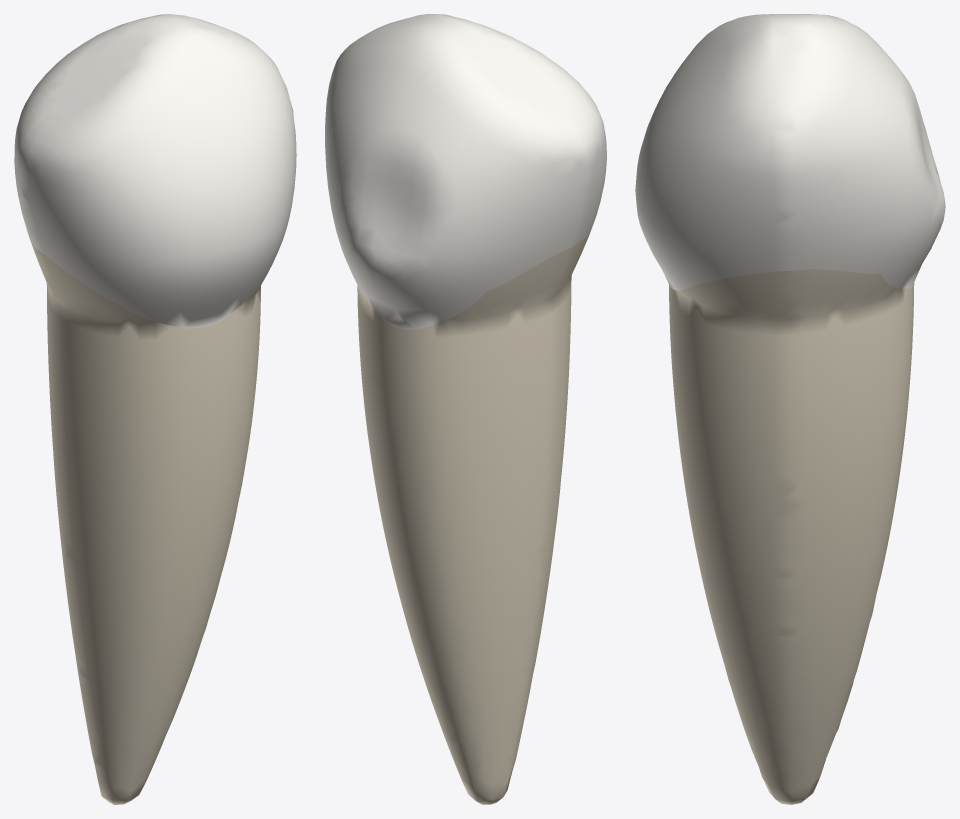
3 renders of one model, left to right at view 1: azimuth 30°, elevation 25°; view 2: azimuth 150°, elevation 25°; view 3: azimuth 270°, elevation 25°, orthographic. The views are drawn at different scales.
Visible parts, largest first — view 1: root, V, I, D, M; view 2: root, L, I, D, M; view 3: root, M, I, L, V.
Part boxes in pixels (x1,y1,x2,y2): root: [30, 240, 265, 804]; V: [108, 104, 291, 328]; I: [31, 14, 281, 140]; D: [14, 91, 116, 301]; M: [263, 76, 296, 225]; root: [357, 236, 588, 804]; L: [330, 108, 492, 329]; I: [336, 14, 583, 141]; D: [486, 83, 606, 291]; M: [325, 54, 349, 214]; root: [669, 269, 914, 804]; M: [680, 115, 889, 284]; I: [680, 14, 901, 133]; L: [874, 63, 945, 288]; V: [635, 54, 701, 290].
Bounding box in the file's own units: 6.99 × 19.95 × 6.95.
